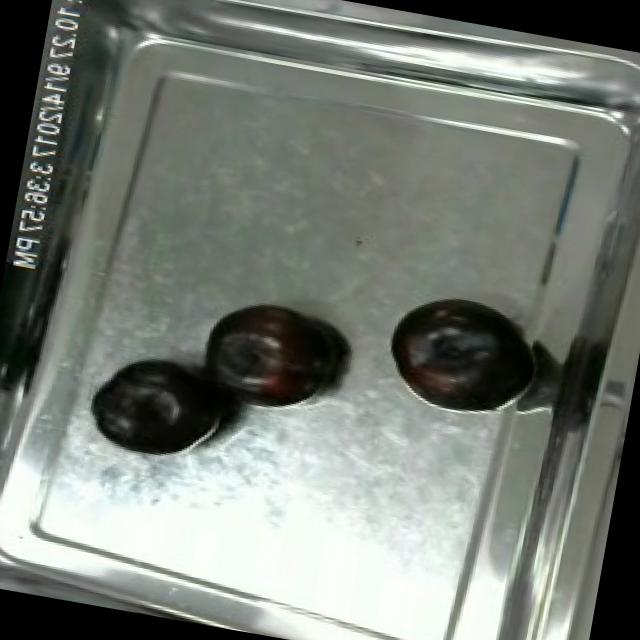Fruit: (375, 283, 546, 422), (76, 339, 244, 474), (188, 286, 354, 422)
